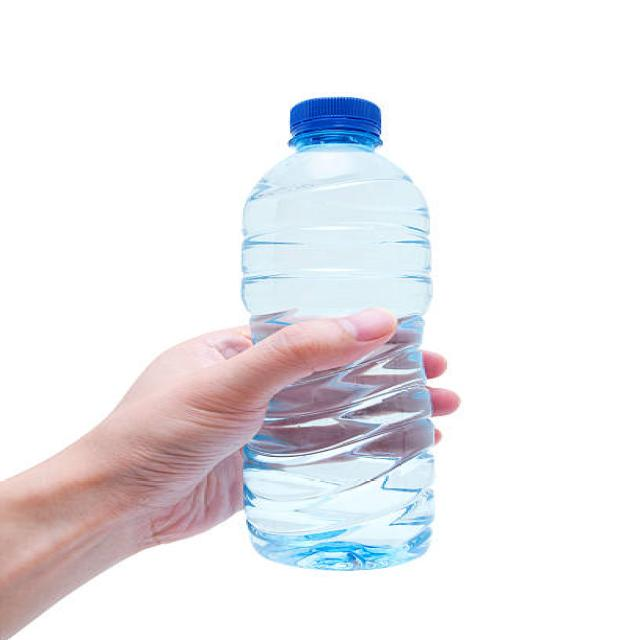bottle: (238, 97, 440, 582)
